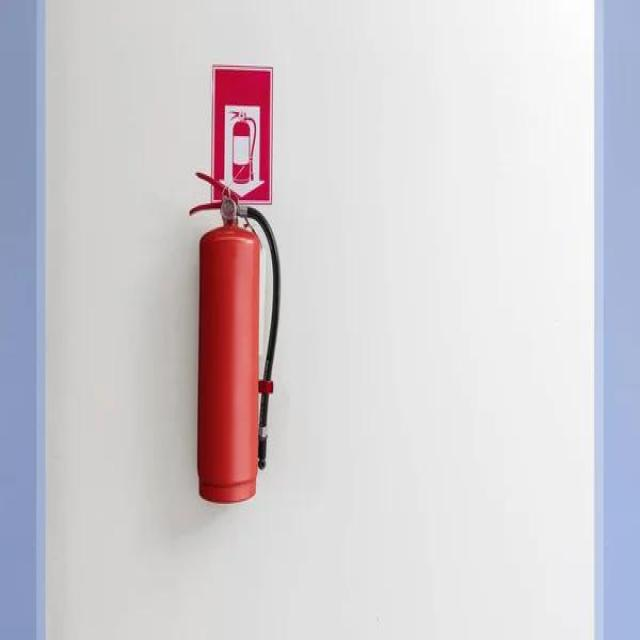fire_extinguisher: (184, 159, 282, 508)
